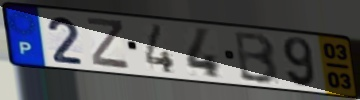2: (43, 12, 89, 67)
4: (184, 27, 225, 80), (143, 22, 178, 75)
9: (282, 35, 320, 89)
B: (233, 30, 282, 86)
Z: (85, 15, 132, 72)
